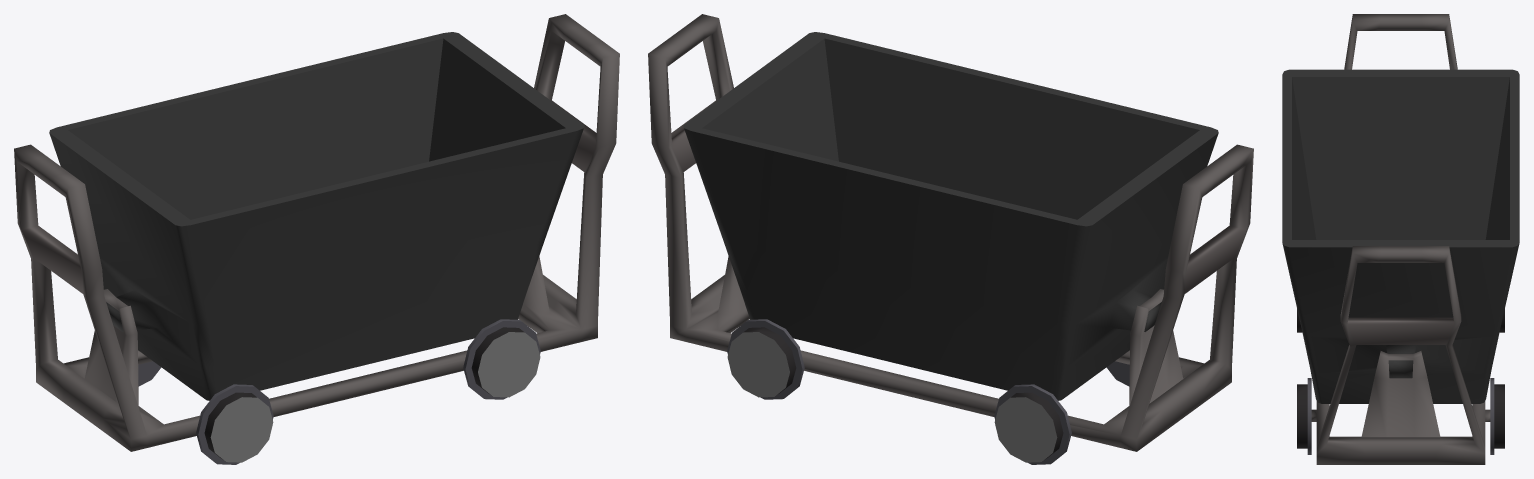
File: MiningCart.glb
3 renders of one model, left to right at view 1: azimuth 30°, elevation 25°; view 2: azimuth 150°, elevation 25°; view 3: azimuth 270°, elevation 25°, orthographic. The views are drawn at different scales.
Visible parts, largest first — view 1: MiningCart; view 2: MiningCart; view 3: MiningCart.
Boxes of the visible parts, x1,y1,x2,y2 form: MiningCart: (14, 14, 619, 464); MiningCart: (648, 14, 1253, 464); MiningCart: (1282, 14, 1519, 464).
Size of the model in its own units: 1.55 by 0.7851 by 0.6499.
Materials: 1 (1 with a texture image).
